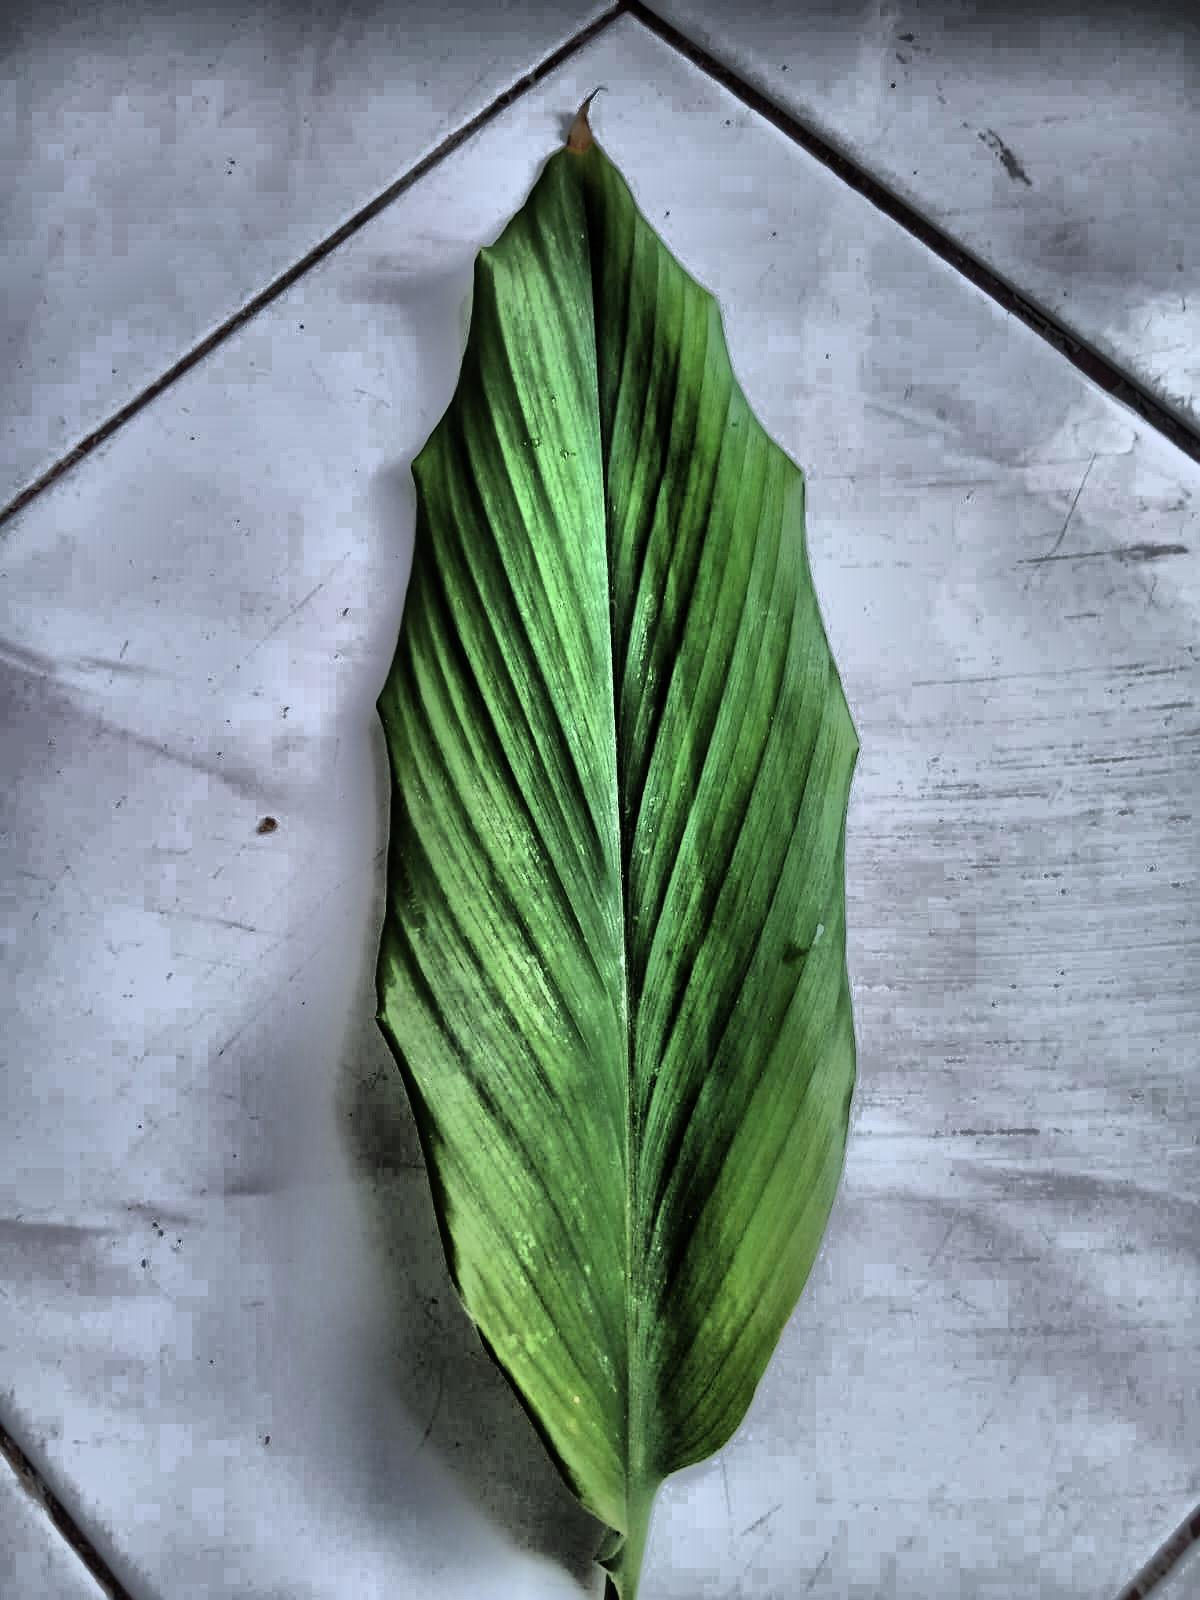daun kunyit: (377, 116, 857, 1599)
